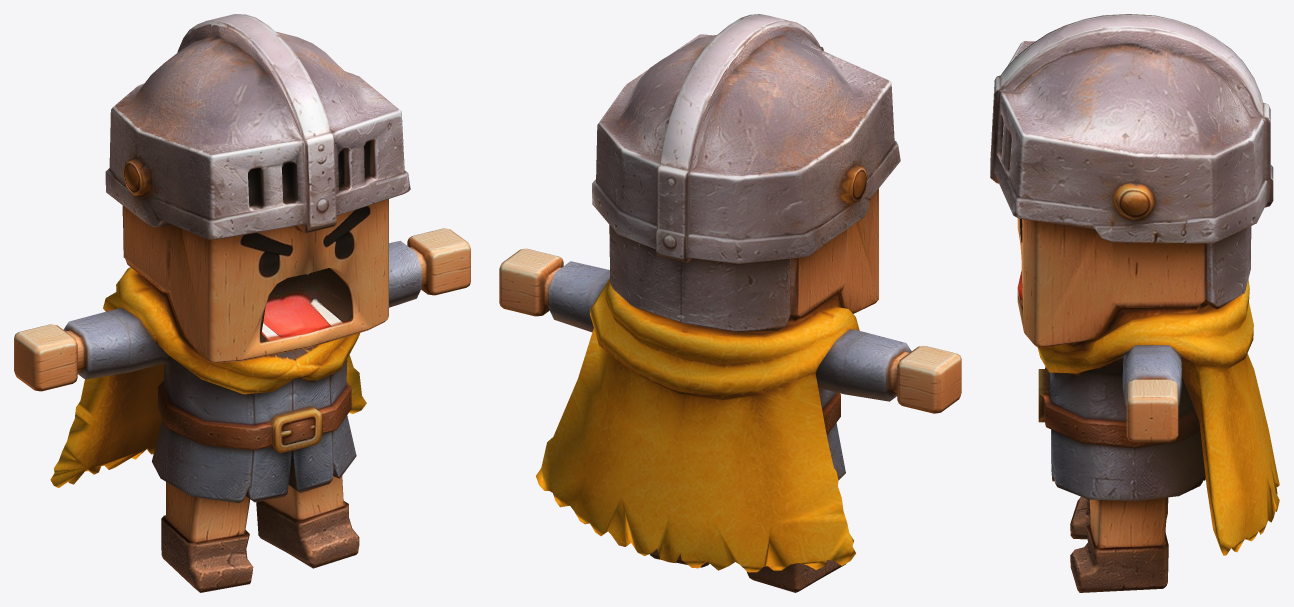
File: hero_squire.glb
3 renders of one model, left to right at view 1: azimuth 30°, elevation 25°; view 2: azimuth 150°, elevation 25°; view 3: azimuth 270°, elevation 25°, orthographic.
Visible parts, largest first — view 1: Head, Torso, Arm_R, Leg_R, Leg_L, Arm_L; view 2: Head, Torso, Arm_R, Arm_L, Leg_R; view 3: Head, Torso, Leg_L, Arm_L, Leg_R.
Part boxes in pixels (left/top/right/bottom): Head: left=105, top=14, right=410, bottom=363; Torso: left=50, top=267, right=366, bottom=503; Arm_R: left=14, top=308, right=173, bottom=391; Leg_R: left=161, top=482, right=253, bottom=592; Leg_L: left=256, top=450, right=359, bottom=568; Arm_L: left=389, top=228, right=470, bottom=307; Head: left=592, top=14, right=900, bottom=332; Torso: left=536, top=278, right=859, bottom=572; Arm_R: left=815, top=328, right=961, bottom=413; Arm_L: left=499, top=248, right=609, bottom=332; Leg_R: left=746, top=560, right=846, bottom=592; Head: left=990, top=14, right=1273, bottom=348; Torso: left=1037, top=279, right=1279, bottom=555; Leg_L: left=1052, top=466, right=1205, bottom=592; Arm_L: left=1122, top=345, right=1182, bottom=442; Leg_R: left=1070, top=496, right=1168, bottom=539.
Size of the model in its own units: 0.8677 by 0.9995 by 0.4917.
Materials: 1 (1 with a texture image).
